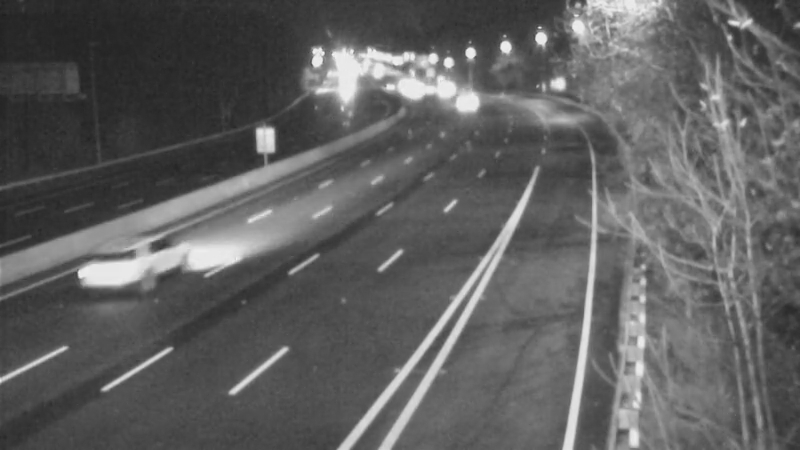vehicle: (70, 230, 150, 310), (419, 66, 469, 116), (441, 77, 491, 127)
